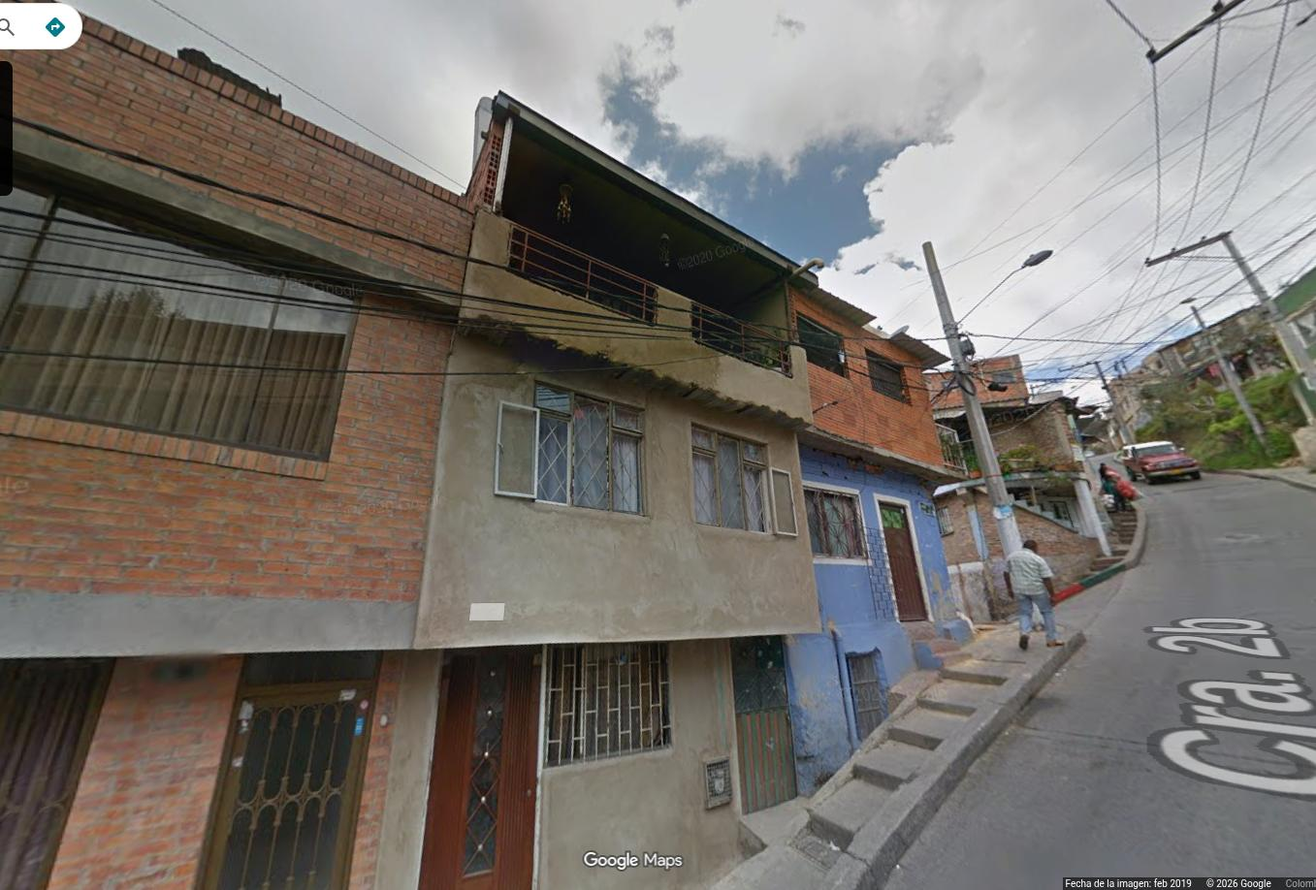casa: (0, 14, 473, 889), (406, 94, 821, 889), (784, 283, 960, 792)
poste: (922, 242, 1021, 556), (1144, 233, 1315, 387)
